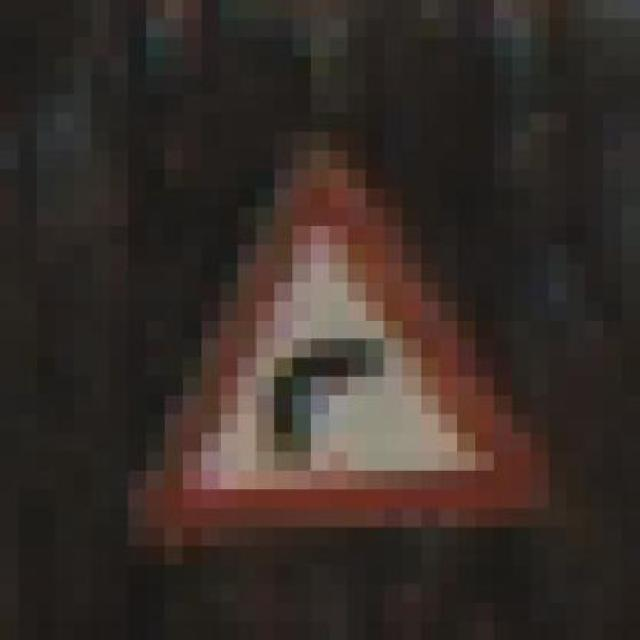Dangerous Rright Curve Ahead: (110, 112, 567, 565)
